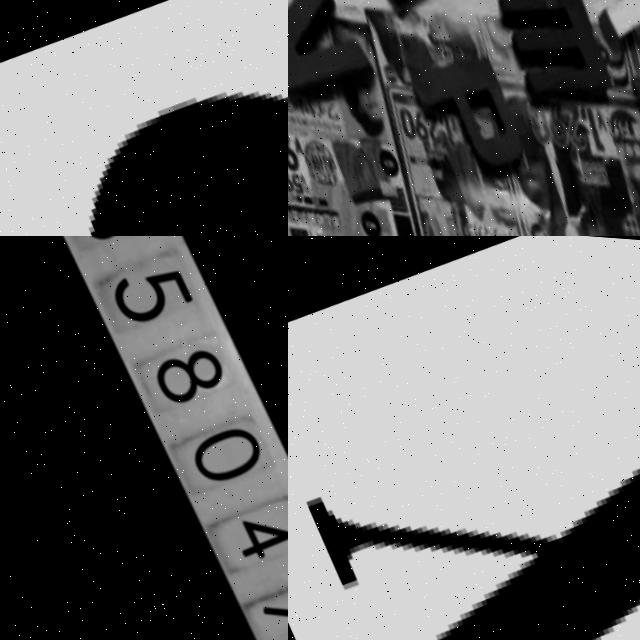0: (175, 399, 279, 493)
4: (217, 482, 288, 566)
5: (97, 236, 206, 336)
7: (246, 557, 288, 640)
8: (139, 322, 241, 412)
H: (585, 0, 640, 115)
M: (494, 0, 617, 114)
P: (408, 37, 534, 189)
Q: (0, 0, 288, 236)
V: (288, 0, 378, 119)
X: (295, 282, 640, 640)
